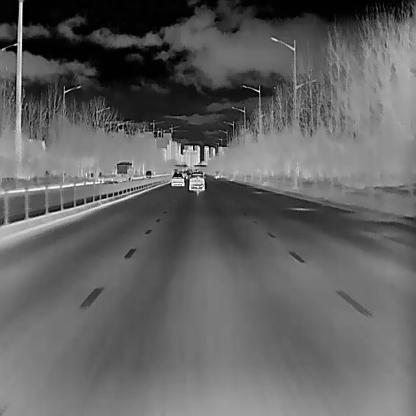car: (113, 159, 134, 182), (189, 171, 204, 191), (171, 172, 184, 186), (144, 169, 152, 179), (213, 170, 219, 178)
